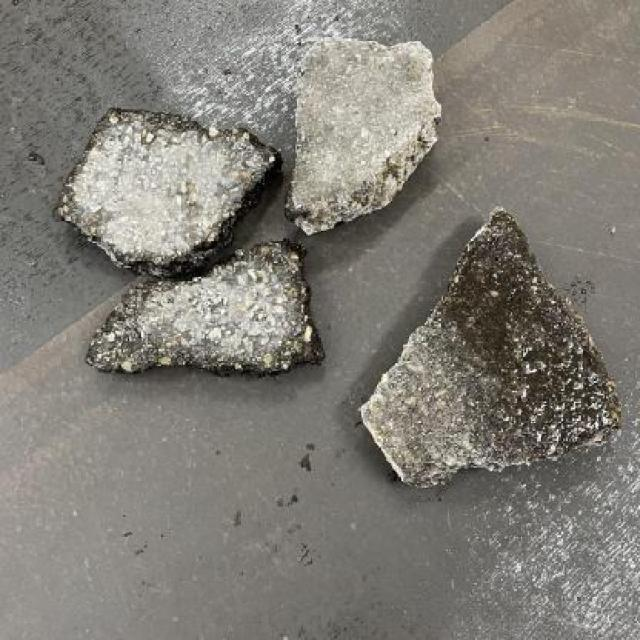Road Debris: (448, 208, 622, 460), (74, 106, 260, 272), (93, 253, 334, 381), (298, 56, 404, 178)
